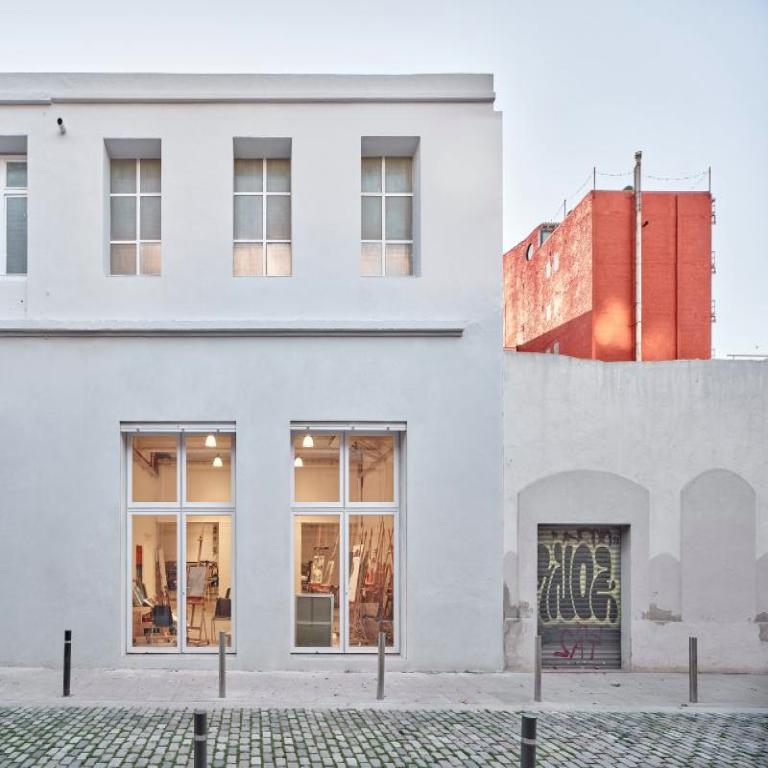white-walls: (17, 352, 469, 617)
